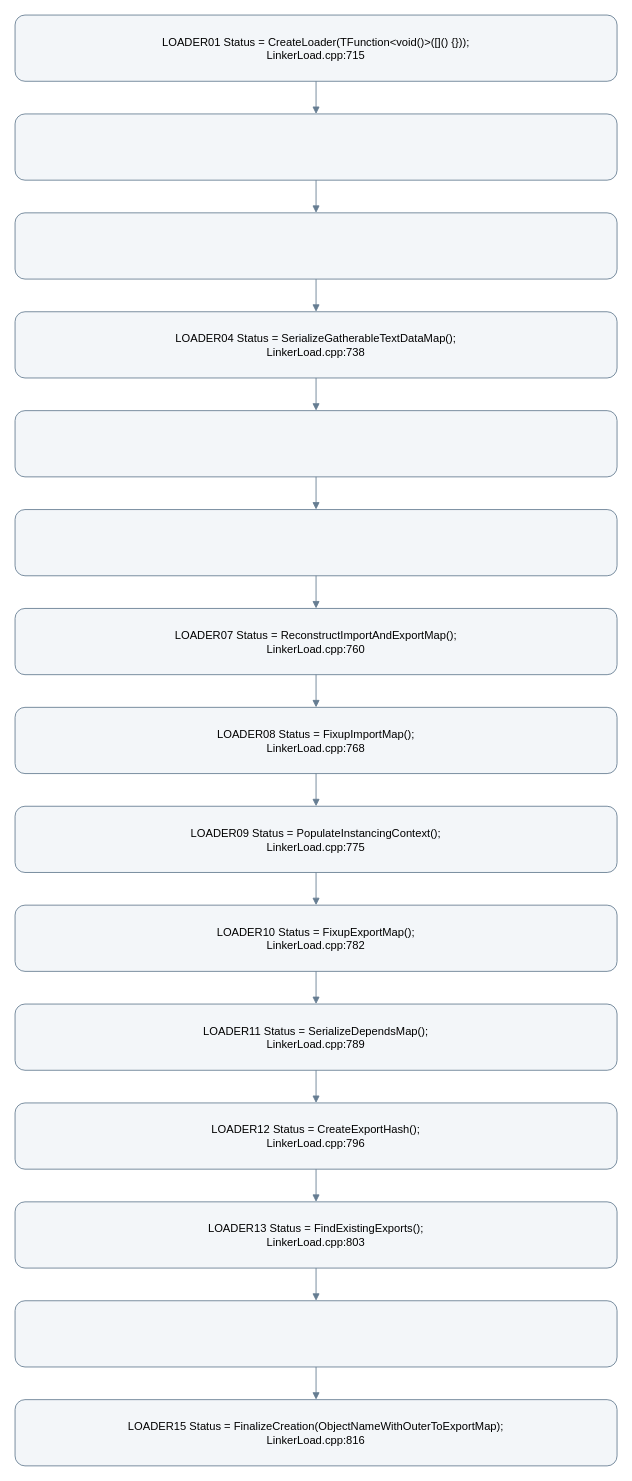
Some shapes in this 632 by 1481 pixel diagram are drawn without their labels. The shapes that lost their labels are listed below. From the top down, each one's centre as x and y in pixels, then its label:
the point at 315,146: LOADER02 Status = SerializePackageFileSummary(); LinkerLoad.cpp:724
the point at 315,245: LOADER03 Status = SerializeNameMap(); LinkerLoad.cpp:731
the point at 315,443: LOADER05 Status = SerializeImportMap(); LinkerLoad.cpp:745
the point at 315,542: LOADER06 Status = SerializeExportMap(); LinkerLoad.cpp:752
the point at 315,1333: LOADER14 Status = SerializePreloadDependencies(); LinkerLoad.cpp:809
